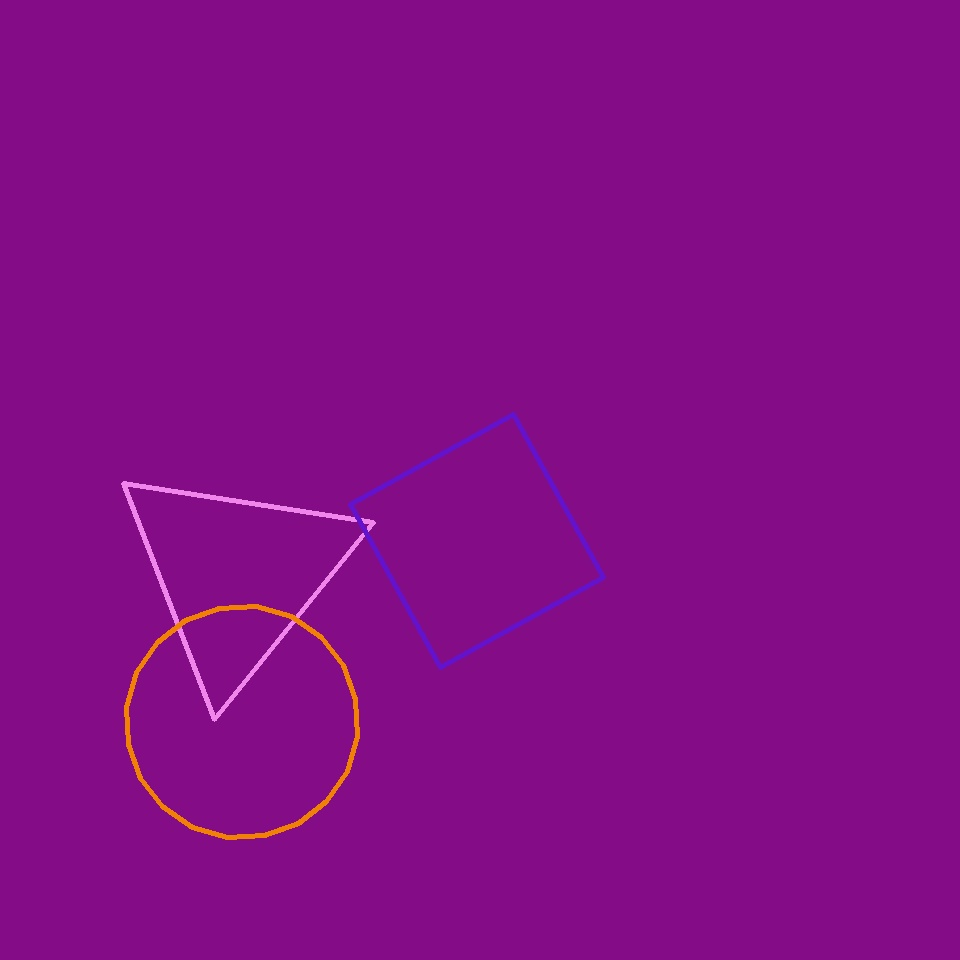circle: (112, 457, 362, 693)
square: (350, 415, 604, 668)
triangle: (126, 606, 358, 838)
